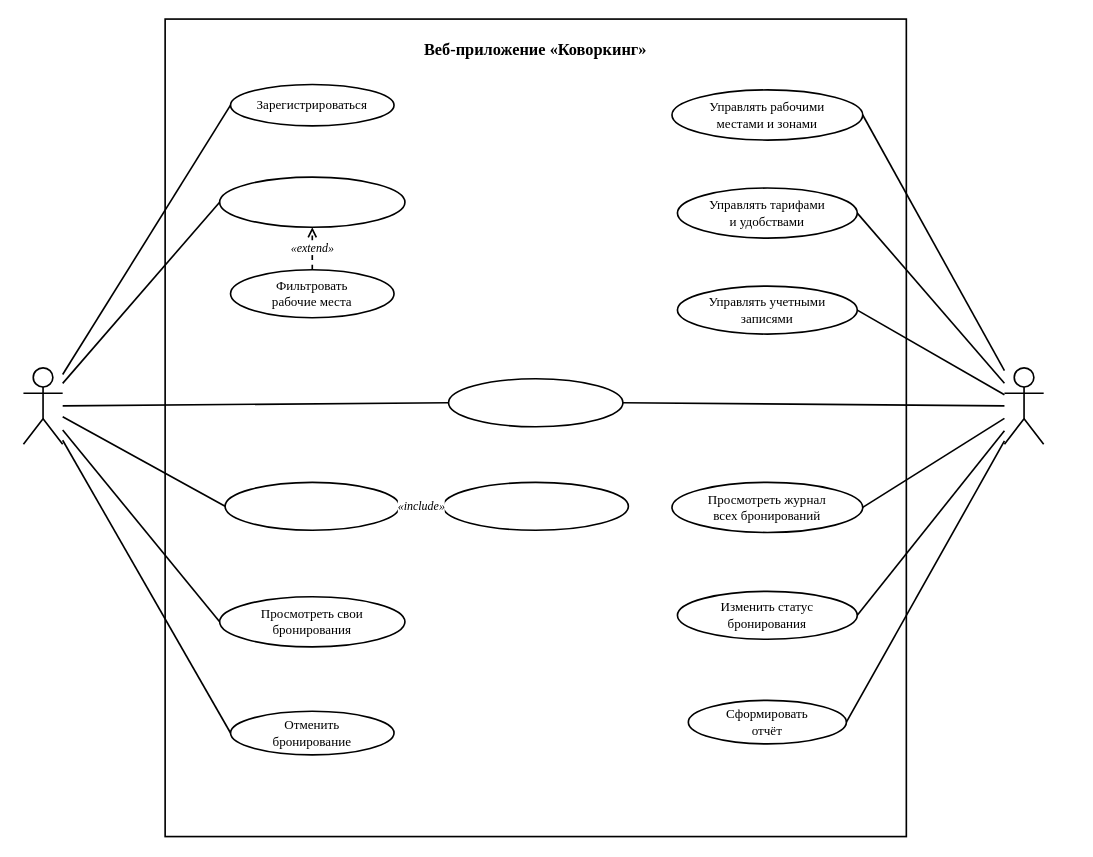
Image size: 1093x857. Some labels were removed from this diagram. Here are the shapes that lost their labels. From the top down, the centre of each, then its label:
[311,202]: Просмотреть каталог рабочих мест
[42,406]: Клиент
[535,402]: Авторизоваться в системе
[1023,406]: Администратор
[312,506]: Забронировать рабочее место
[535,506]: Рассчитать стоимость аренды
